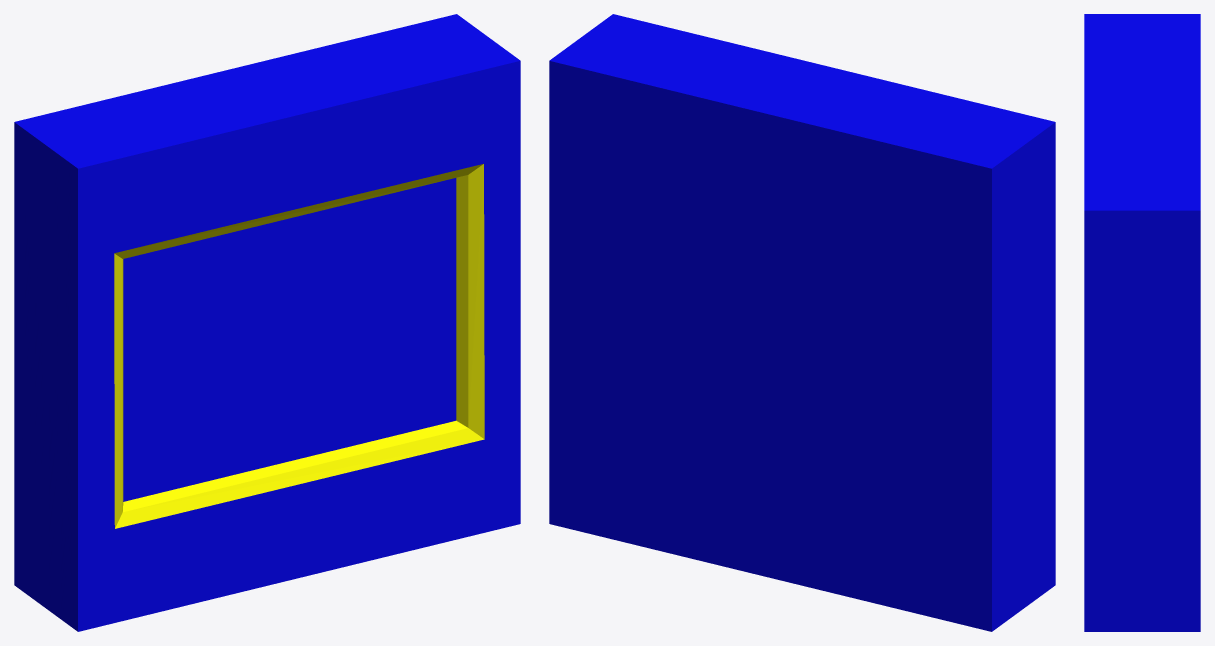
File: WALL_WRITINGZONE.fbx
3 renders of one model, left to right at view 1: azimuth 30°, elevation 25°; view 2: azimuth 150°, elevation 25°; view 3: azimuth 270°, elevation 25°, orthographic. The views are drawn at different scales.
Parts seen in each view (by area): view 1: WALL_BASIC_WRITINGZONE; view 2: WALL_BASIC_WRITINGZONE; view 3: WALL_BASIC_WRITINGZONE.
Part boxes in pixels (x1,y1,x2,y2): WALL_BASIC_WRITINGZONE: [14, 14, 520, 631]; WALL_BASIC_WRITINGZONE: [549, 14, 1055, 631]; WALL_BASIC_WRITINGZONE: [1084, 14, 1200, 631].
Size of the model in its own units: 400 by 400 by 100.
